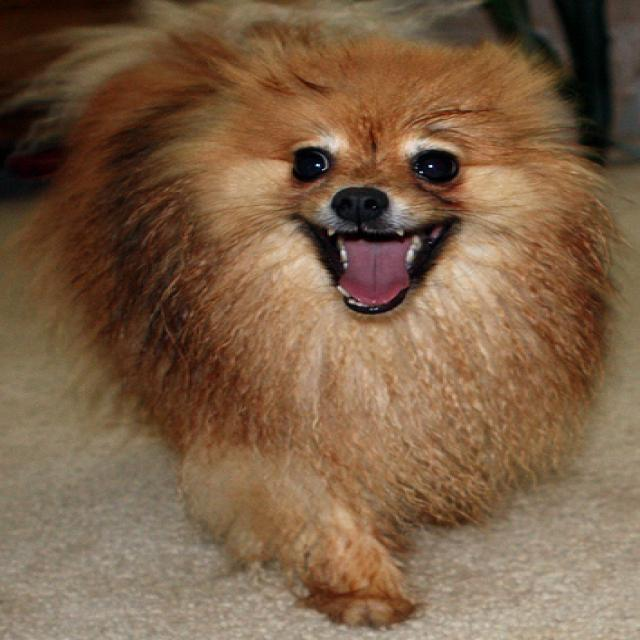dog-pomeranian: (2, 1, 627, 637)
